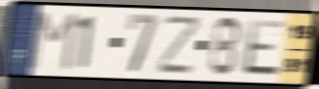1: (75, 14, 98, 71)
7: (125, 13, 161, 76)
8: (206, 15, 243, 78)
E: (242, 18, 289, 79)
M: (26, 10, 81, 73)
Z: (156, 15, 204, 76)
